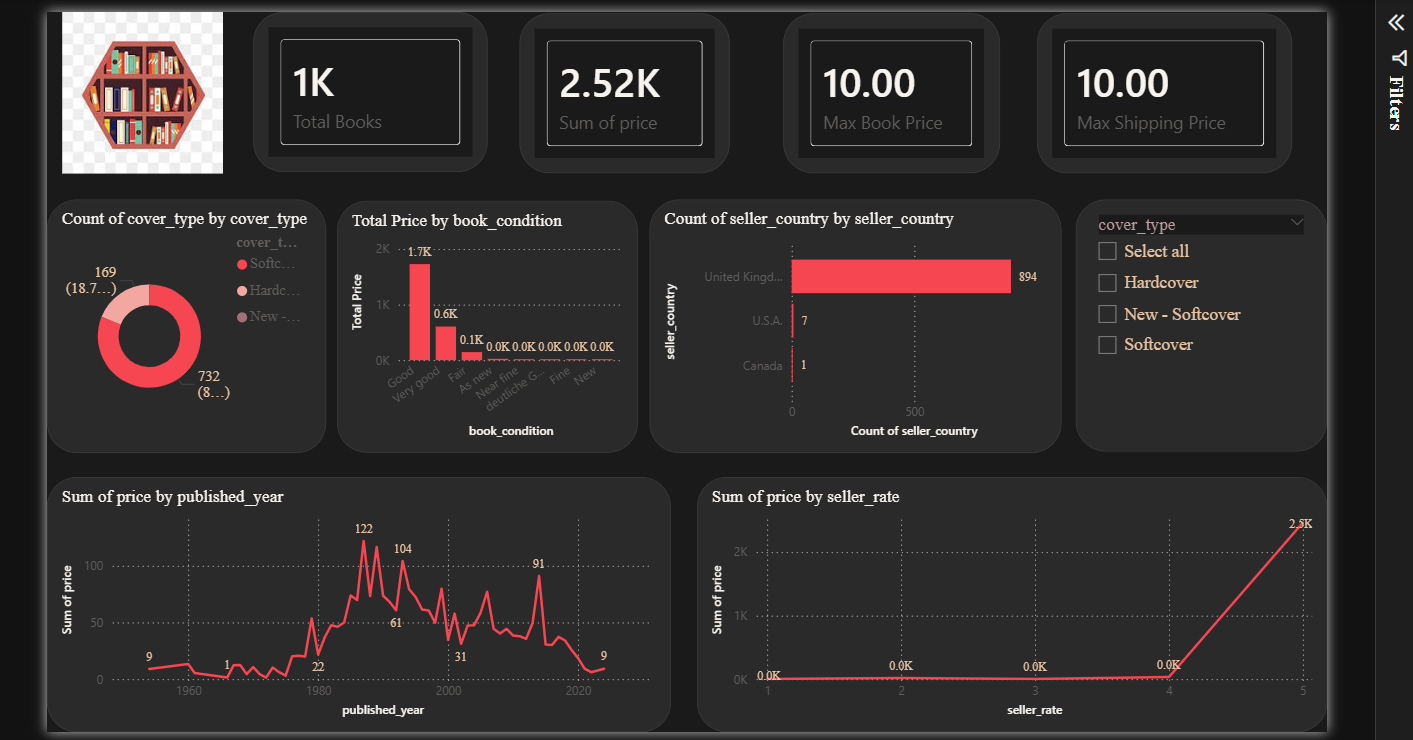

What the dashboard file says about the page in this screenshot:
{"tool":"powerbi","page":{"name":"Page 1","canvas":[1280,720],"ordinal":0},"visuals":[{"type":"donutChart","fields":{"Category":["cleaned_abe_books.cover_type"],"Y":["CountNonNull(cleaned_abe_books.cover_type)"]},"box":[0,187.2,279.4,253.6],"z":0},{"type":"lineChart","fields":{"Y":["Sum(cleaned_abe_books.price)"],"Category":["cleaned_abe_books.published_year"]},"box":[0,465.2,623.9,255],"z":1000},{"type":"clusteredColumnChart","fields":{"Category":["cleaned_abe_books.book_condition"],"Y":["Sum(cleaned_abe_books.price)"]},"box":[290.2,188.5,301.1,252.3],"z":2000},{"type":"cardVisual","fields":{"Data":["cleaned_abe_books.Max_Shipping_Price_Measure"]},"box":[990,1.4,255,160],"z":3000},{"type":"cardVisual","fields":{"Data":["Sum(cleaned_abe_books.book_quantity)"]},"box":[206.1,0,234.6,160],"z":4000},{"type":"cardVisual","fields":{"Data":["cleaned_abe_books.Measure"]},"box":[736.4,1.4,217,160],"z":5000},{"type":"lineChart","fields":{"Category":["cleaned_abe_books.seller_rate"],"Y":["Sum(cleaned_abe_books.price)"]},"box":[649.6,465.2,630.6,255],"z":6000},{"type":"clusteredBarChart","fields":{"Category":["cleaned_abe_books.seller_country"],"Y":["CountNonNull(cleaned_abe_books.seller_country)"]},"box":[602.2,187.2,412.3,253.6],"z":7000},{"type":"image","box":[0,0,191.2,161.4],"z":8000},{"type":"slicer","fields":{"Values":["cleaned_abe_books.cover_type"]},"box":[1029.4,187.2,250.9,252.3],"z":9000},{"type":"cardVisual","fields":{"Data":["Sum(cleaned_abe_books.price)"]},"box":[472,1.4,210.2,160],"z":9001}]}

Visuals, with their boxes on the page's 1280x720 design canvas (x1, y1, x2, y2). These are canvas units, not pixel positions in the 1413x740 screenshot, which may show the page scaled, cropped or inside an application window:
donutChart - cleaned_abe_books.cover_type x CountNonNull(cleaned_abe_books.cover_type): rect(0, 187, 279, 441)
lineChart - Sum(cleaned_abe_books.price) x cleaned_abe_books.published_year: rect(0, 465, 624, 720)
clusteredColumnChart - cleaned_abe_books.book_condition x Sum(cleaned_abe_books.price): rect(290, 188, 591, 441)
cardVisual - cleaned_abe_books.Max_Shipping_Price_Measure: rect(990, 1, 1245, 161)
cardVisual - Sum(cleaned_abe_books.book_quantity): rect(206, 0, 441, 160)
cardVisual - cleaned_abe_books.Measure: rect(736, 1, 953, 161)
lineChart - cleaned_abe_books.seller_rate x Sum(cleaned_abe_books.price): rect(650, 465, 1280, 720)
clusteredBarChart - cleaned_abe_books.seller_country x CountNonNull(cleaned_abe_books.seller_country): rect(602, 187, 1014, 441)
image: rect(0, 0, 191, 161)
slicer - cleaned_abe_books.cover_type: rect(1029, 187, 1280, 440)
cardVisual - Sum(cleaned_abe_books.price): rect(472, 1, 682, 161)
